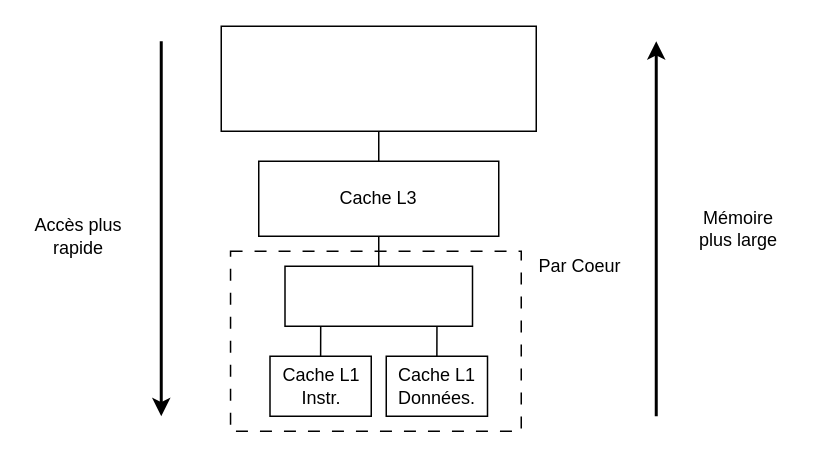
Image size: 816x458. Some labels were removed from this diagram. The box of each missing label's shape, as (x1, y1, x2, y2) in pixels:
Cache L2: (284, 265, 472, 326)
Mémoire principale (SDRAM / DDR): (220, 25, 536, 131)
